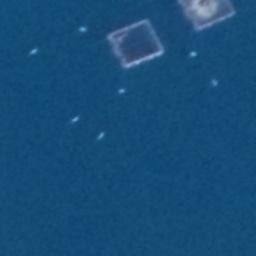square_solid: (102, 15, 168, 71)
